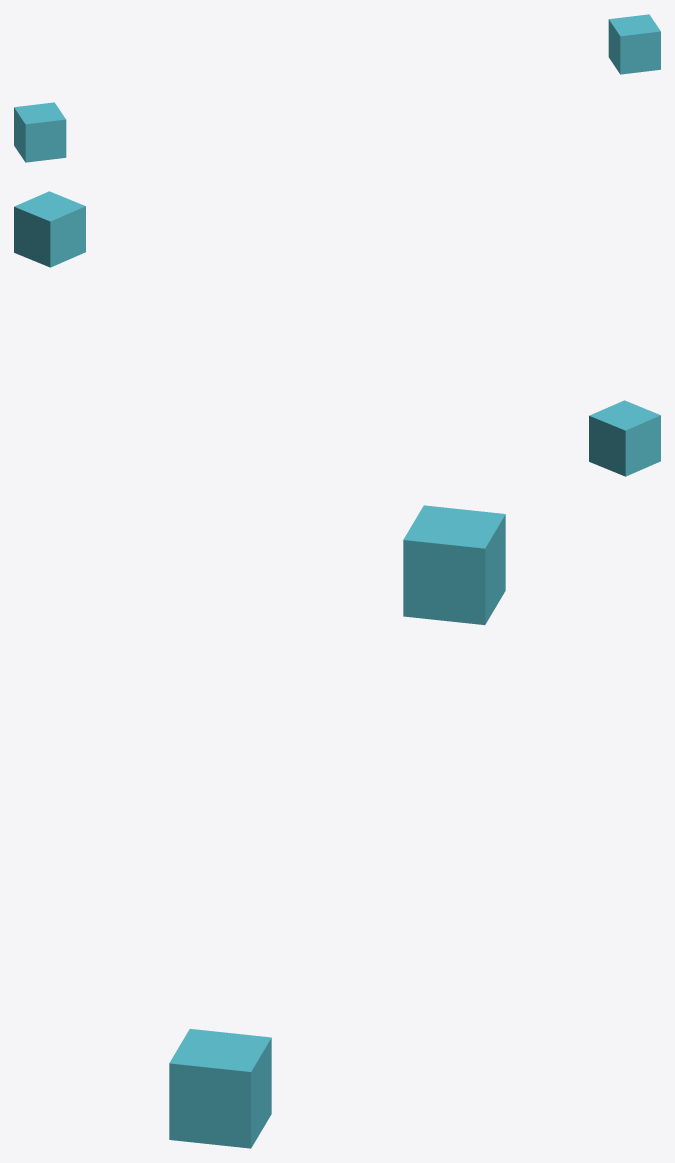
The model's file is 1008_chimney.glb.
3 renders of one model, top to bottom at view 1: azimuth 30°, elevation 25°; view 2: azimuth 150°, elevation 25°; view 3: azimuth 270°, elevation 25°, orthographic. The views are drawn at different scales.
Visible parts, largest first — view 1: Box004, Box005; view 2: Box004, Box005; view 3: Box004, Box005.
Boxes of the visible parts, x1,y1,x2,y2 form: Box004: (14, 102, 66, 162); Box005: (608, 14, 660, 74); Box004: (589, 400, 660, 476); Box005: (14, 191, 85, 267); Box004: (403, 505, 505, 624); Box005: (169, 1029, 271, 1148).
Bounding box in the file's own units: 13.18 × 0.8302 × 3.31.
